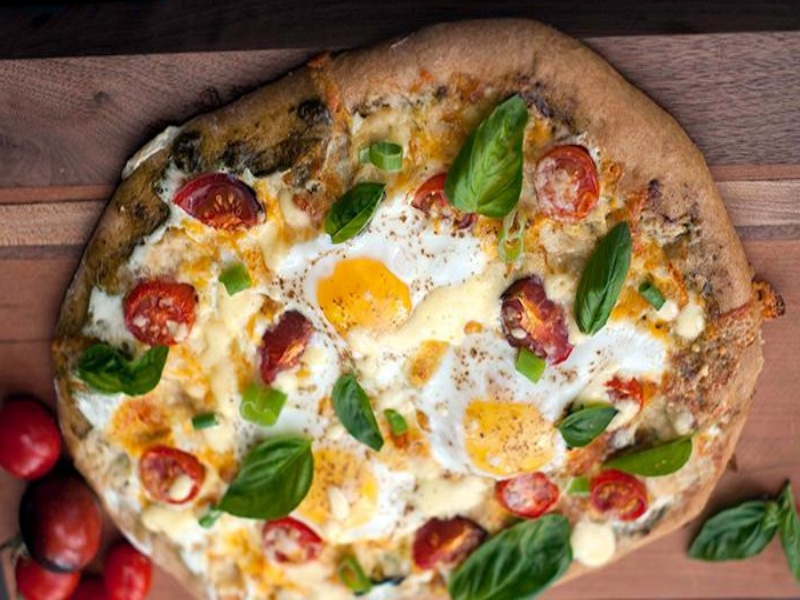oeuf: (445, 384, 565, 491), (304, 254, 429, 348), (291, 442, 402, 538)
